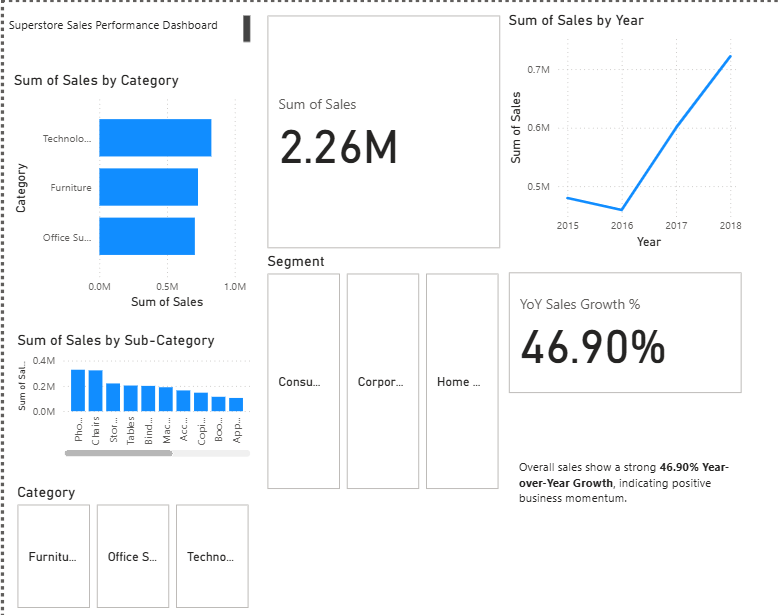

The page's visual inventory and layout, read from the dashboard file:
{"tool":"powerbi","page":{"name":"Page 1","canvas":[1280,720],"ordinal":0},"visuals":[{"type":"cardVisual","fields":{"Data":["Sum(train.Sales)"]},"box":[300,10,280,280],"z":0},{"type":"clusteredBarChart","fields":{"Category":["train.Category"],"Y":["Sum(train.Sales)"]},"box":[10,290,280,280],"z":1000},{"type":"clusteredColumnChart","fields":{"Category":["train.Sub-Category"],"Y":["Sum(train.Sales)"]},"box":[596.7,318.3,280,150],"z":2000},{"type":"lineChart","fields":{"Category":["train.Order Date.Variation.Date Hierarchy.Year","train.Order Date.Variation.Date Hierarchy.Month"],"Y":["Sum(train.Sales)"]},"box":[580,10,280,280],"z":3000},{"type":"advancedSlicerVisual","fields":{"Values":["train.Segment"]},"box":[300,290,280,280],"z":4000},{"type":"advancedSlicerVisual","fields":{"Values":["train.Category"]},"box":[300,570,280,150],"z":5000},{"type":"textbox","box":[0,10,290,270],"z":6000}]}

Visuals, with their boxes on the page's 1280x720 design canvas (x1, y1, x2, y2). These are canvas units, not pixel positions in the 779x615 screenshot, which may show the page scaled, cropped or inside an application window:
cardVisual - Sum(train.Sales): <region>300, 10, 580, 290</region>
clusteredBarChart - train.Category x Sum(train.Sales): <region>10, 290, 290, 570</region>
clusteredColumnChart - train.Sub-Category x Sum(train.Sales): <region>597, 318, 877, 468</region>
lineChart - train.Order Date.Variation.Date Hierarchy.Year x train.Order Date.Variation.Date Hierarchy.Month: <region>580, 10, 860, 290</region>
advancedSlicerVisual - train.Segment: <region>300, 290, 580, 570</region>
advancedSlicerVisual - train.Category: <region>300, 570, 580, 720</region>
textbox: <region>0, 10, 290, 280</region>
